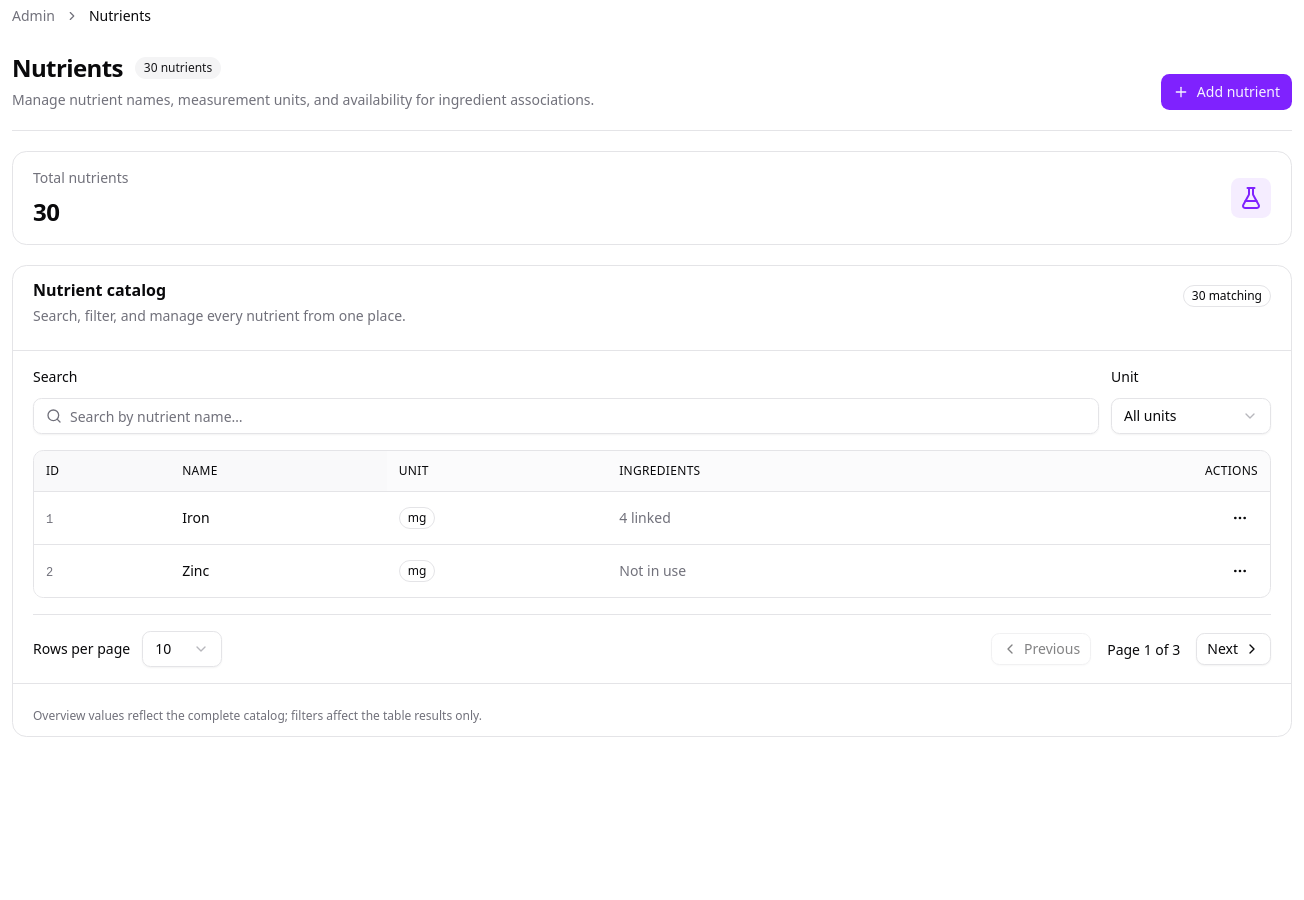
Test: NutrientsPage › uses one-based server pagination without slicing the supplied rows
This screenshot has width=1304, height=900.
Expected: the button "Previous" is disabled, left=991, top=633, right=1091, bottom=665
Click the button "Next" at (1234, 649), box left=1196, top=633, right=1271, bottom=665
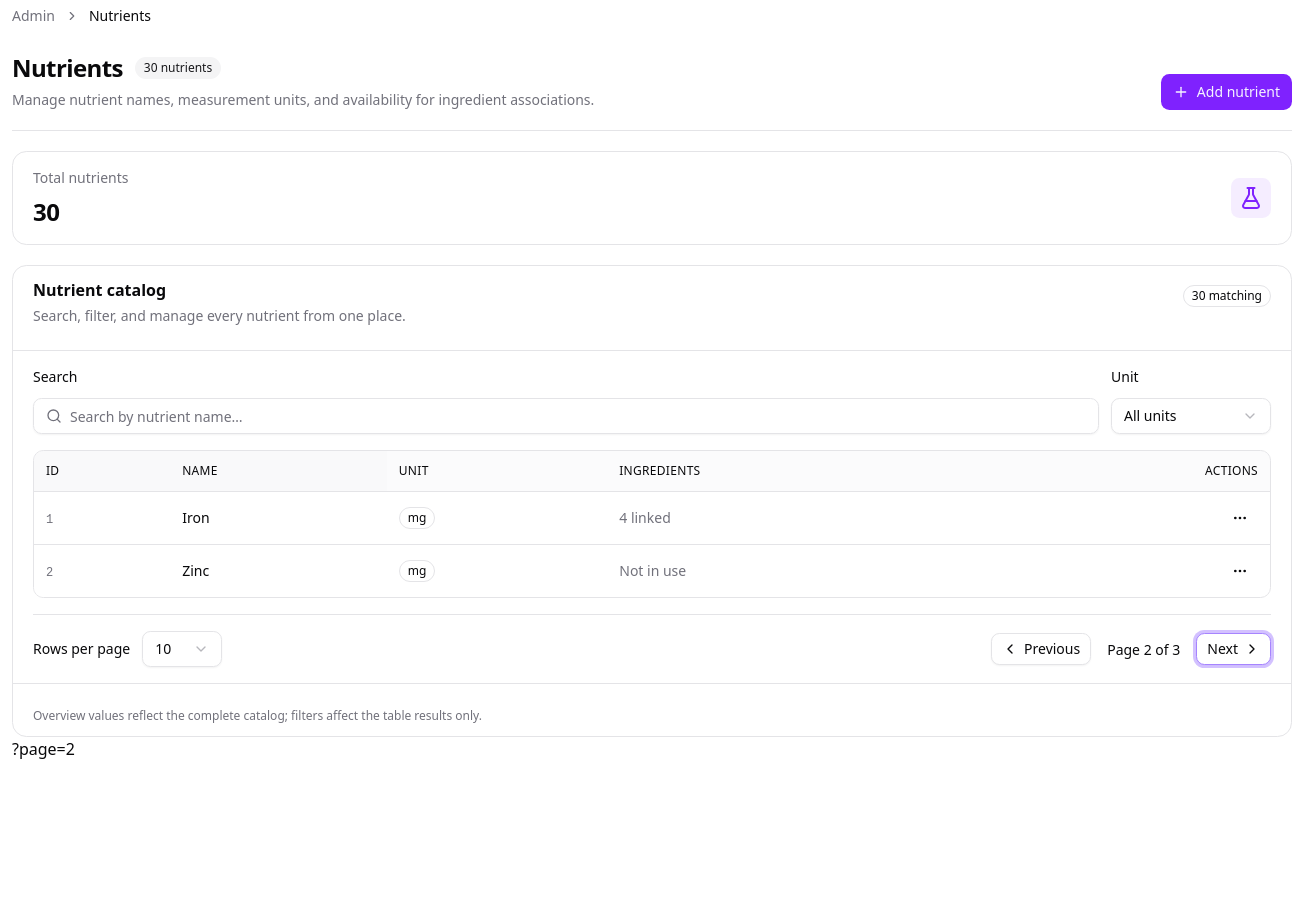
Expected: the cell "Zinc" is shown, left=170, top=544, right=387, bottom=597
Click the button "Next" at (1234, 649), box left=1196, top=633, right=1271, bottom=665
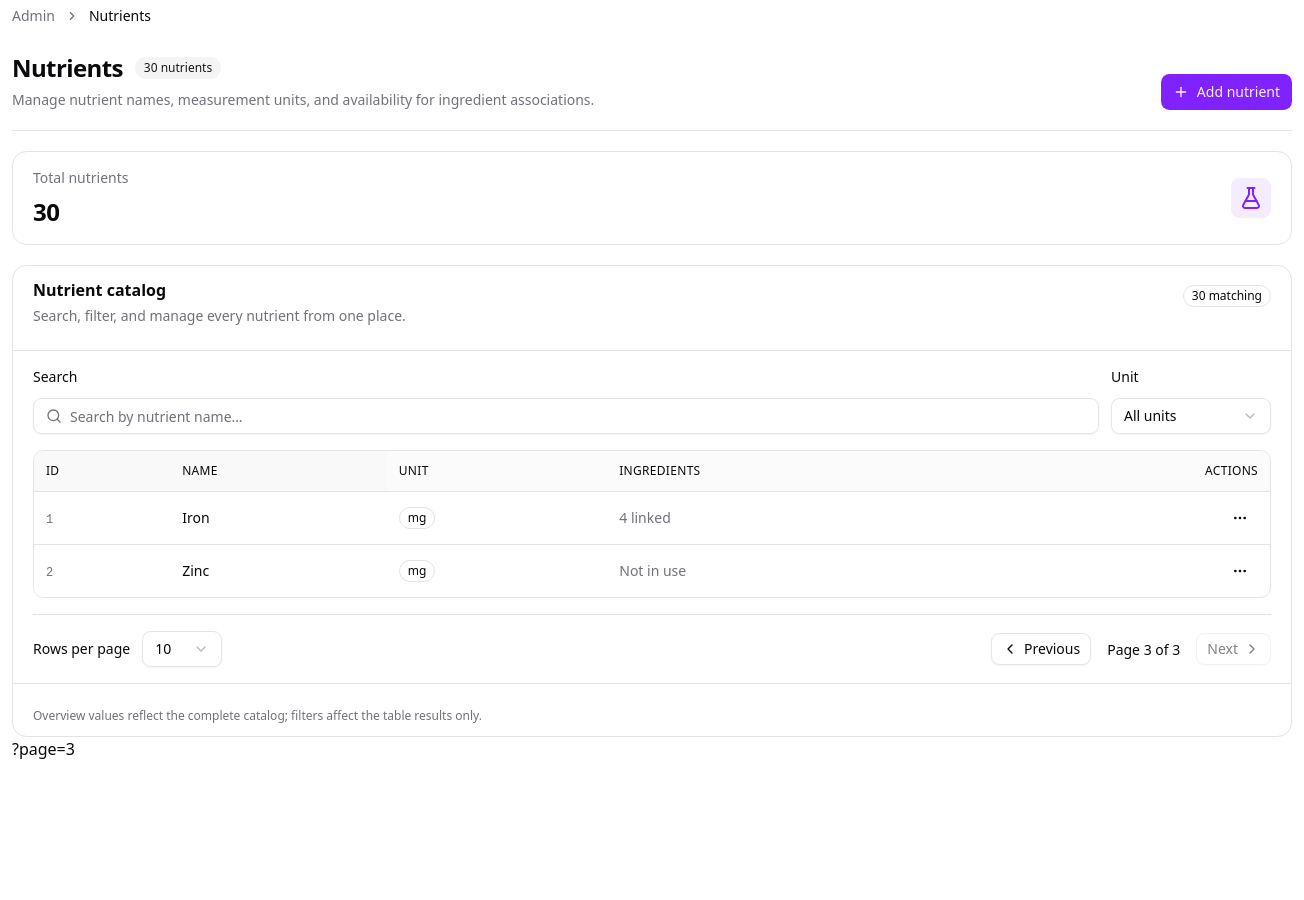
Expected: the button "Next" is disabled, left=1196, top=633, right=1271, bottom=665
Click the button "Previous" at (1041, 649), box left=991, top=633, right=1091, bottom=665
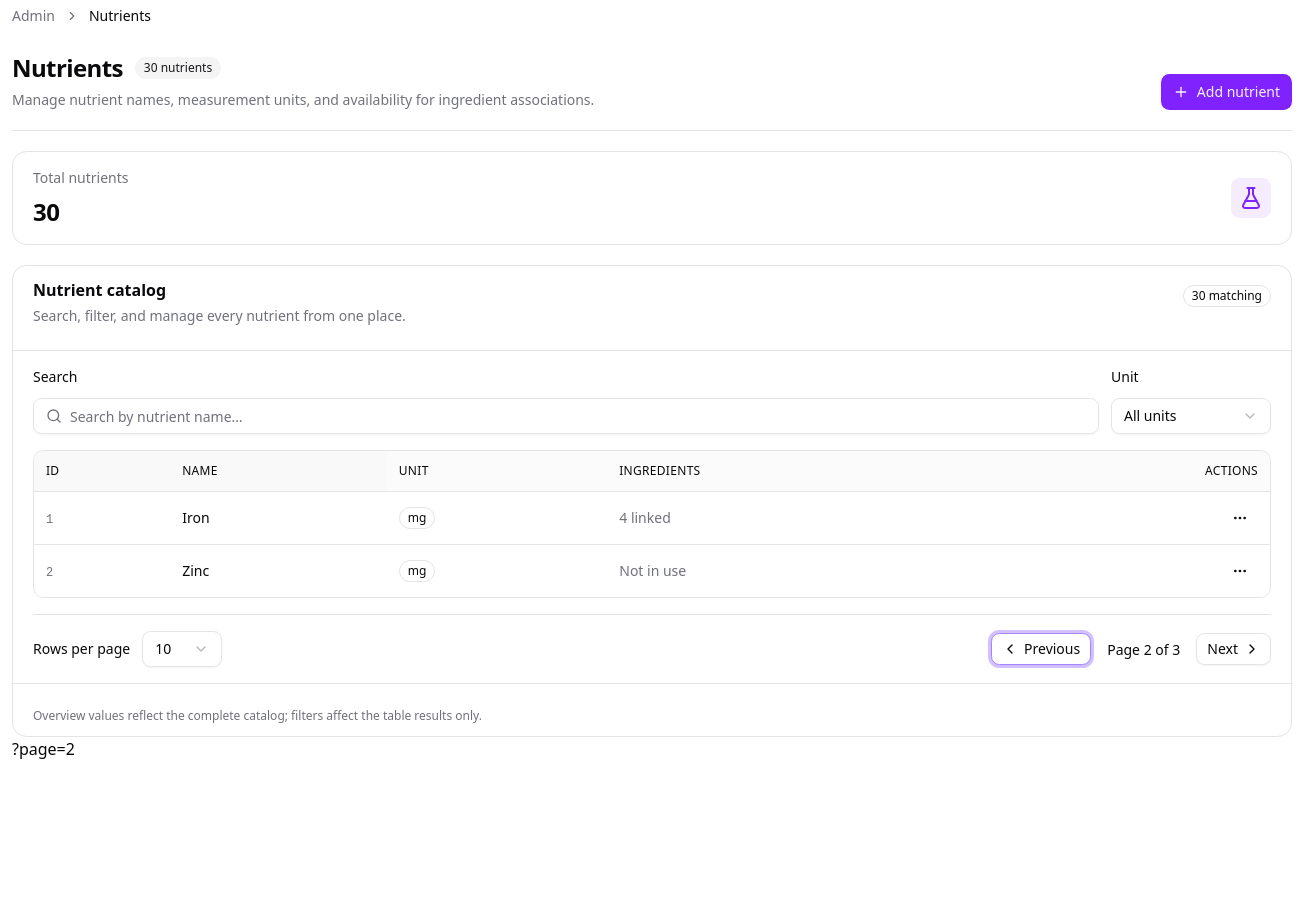
Expected: the text with test id "location-search" shows "page=2", left=12, top=738, right=75, bottom=760
